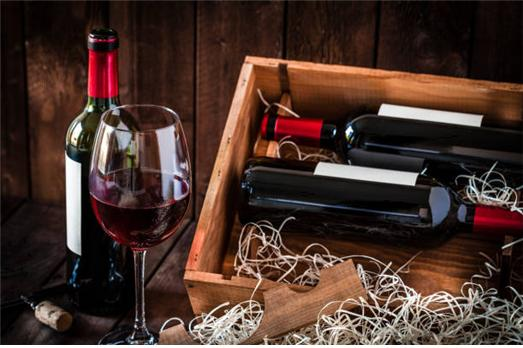alcohol: (89, 103, 193, 348), (236, 154, 523, 242), (64, 26, 145, 319), (260, 112, 523, 179), (18, 292, 71, 333)
